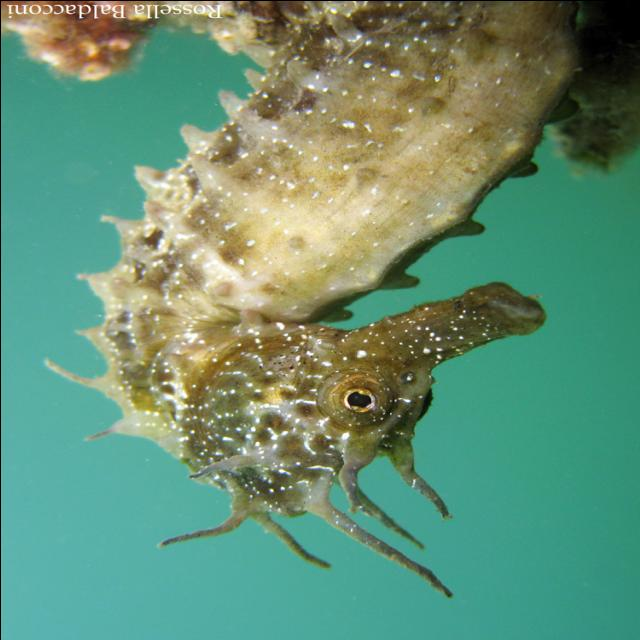Guttu: (161, 273, 561, 526)
